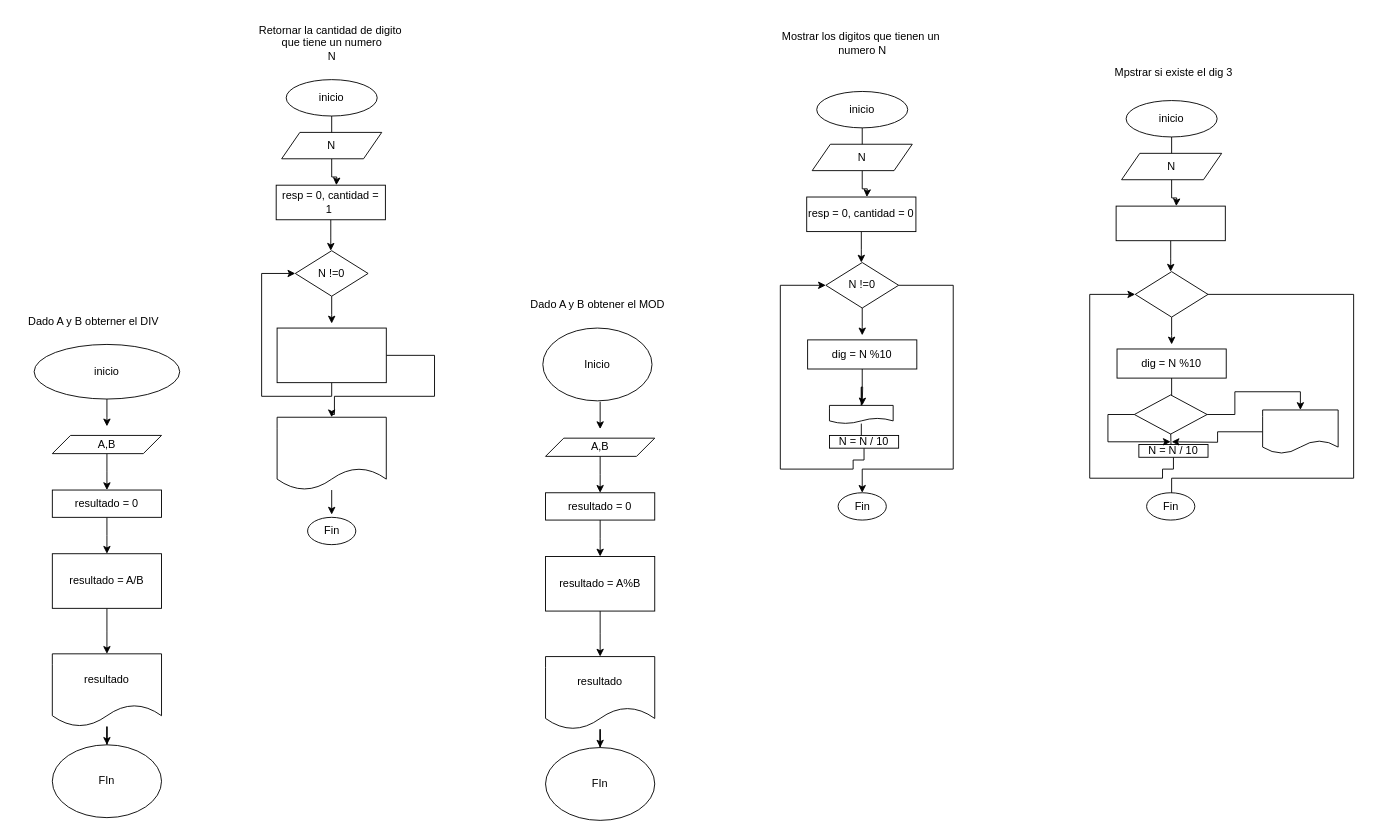
This 1377x836 diagram has some shape labels left out. The centre of each missing label's shape, as x and y in pixels:
cantida + "digito": pixel 331 453
dig: pixel 861 414
dig = 0: pixel 1170 223
dig == 3: pixel 1170 414
Existe dig 3: pixel 1300 431
N != 0: pixel 1171 294
N = N /10 cantida = cantida + 1: pixel 331 355
